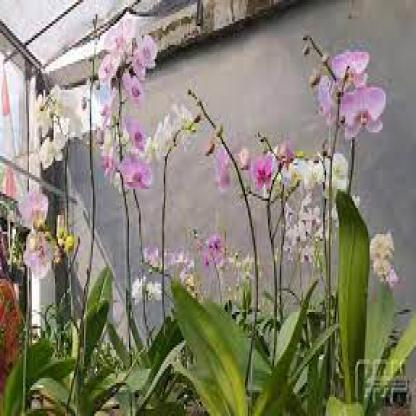ANGGREK: (27, 27, 407, 332)
